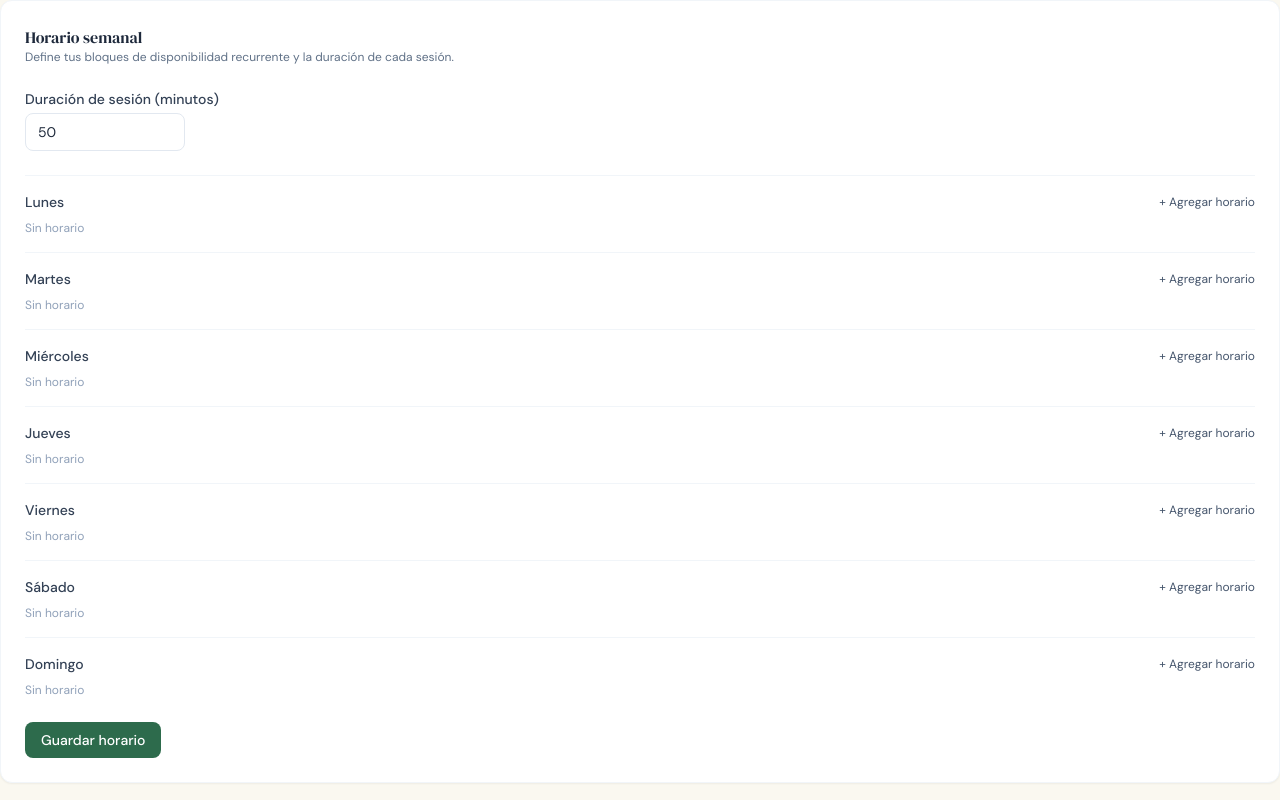
WeeklyScheduleEditor — therapist-availability Req: Weekly Recurring Schedule › guarda un horario válido y lo envía a PUT /availability/schedule
Step 1. Click the button with aria-label "Agregar horario para Lunes" → (1207, 202), box [1159,194,1255,210]
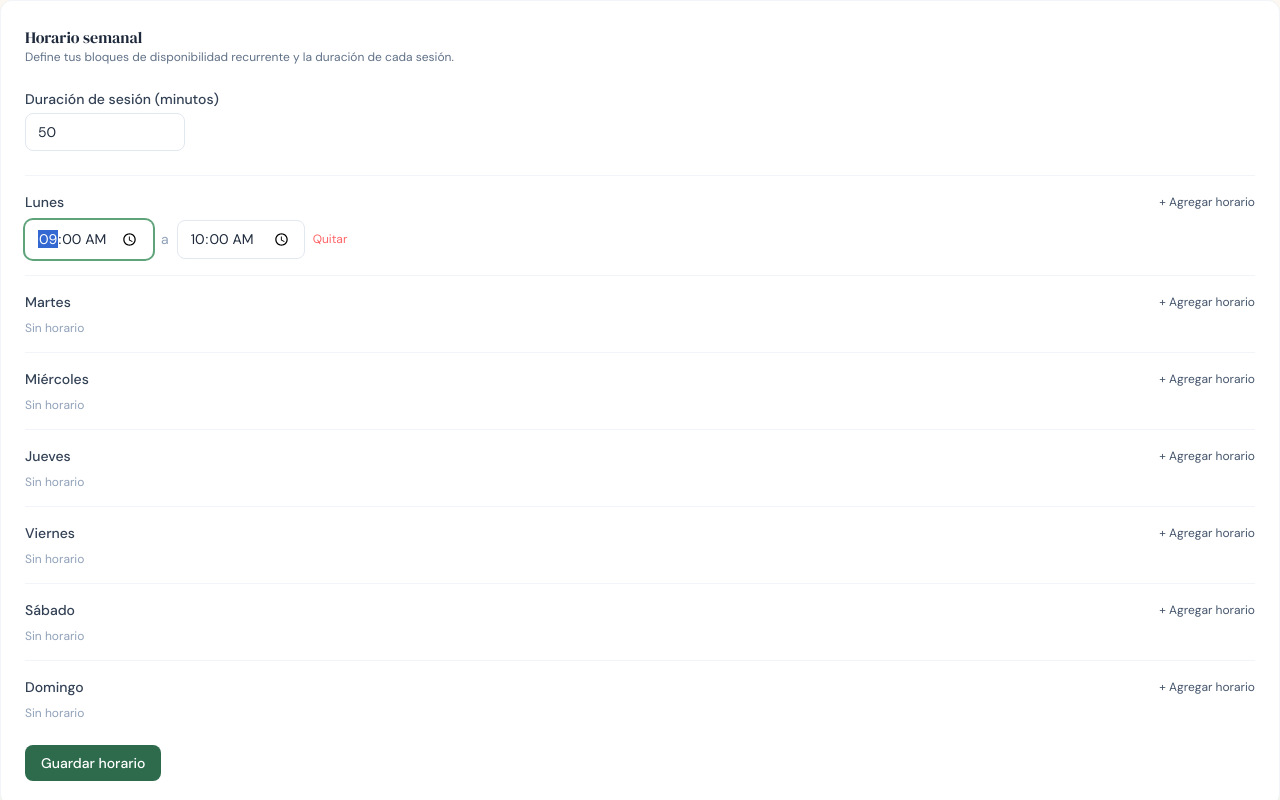
Step 2. Click the button "Guardar horario" → (93, 763), box [25,745,162,781]
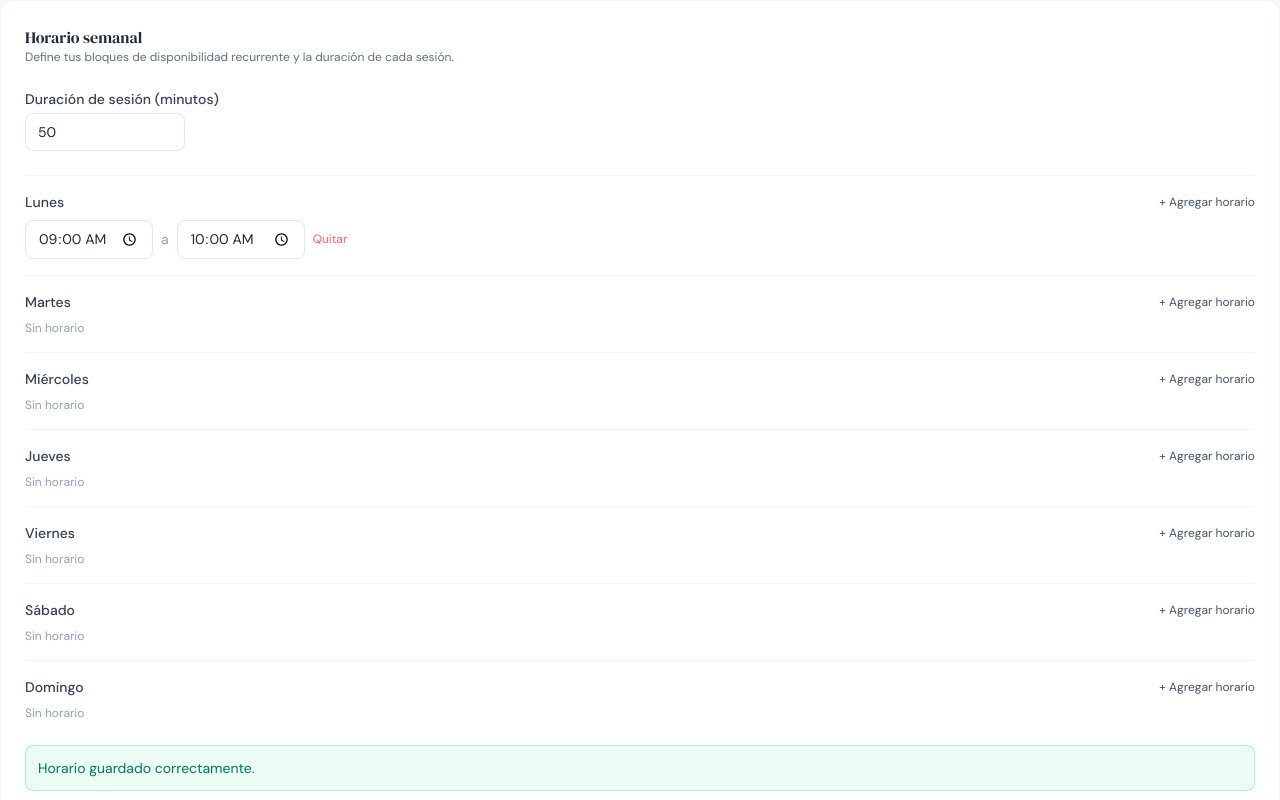
expect the text "Horario guardado correctamente." is shown: met, box [38,759,254,777]
